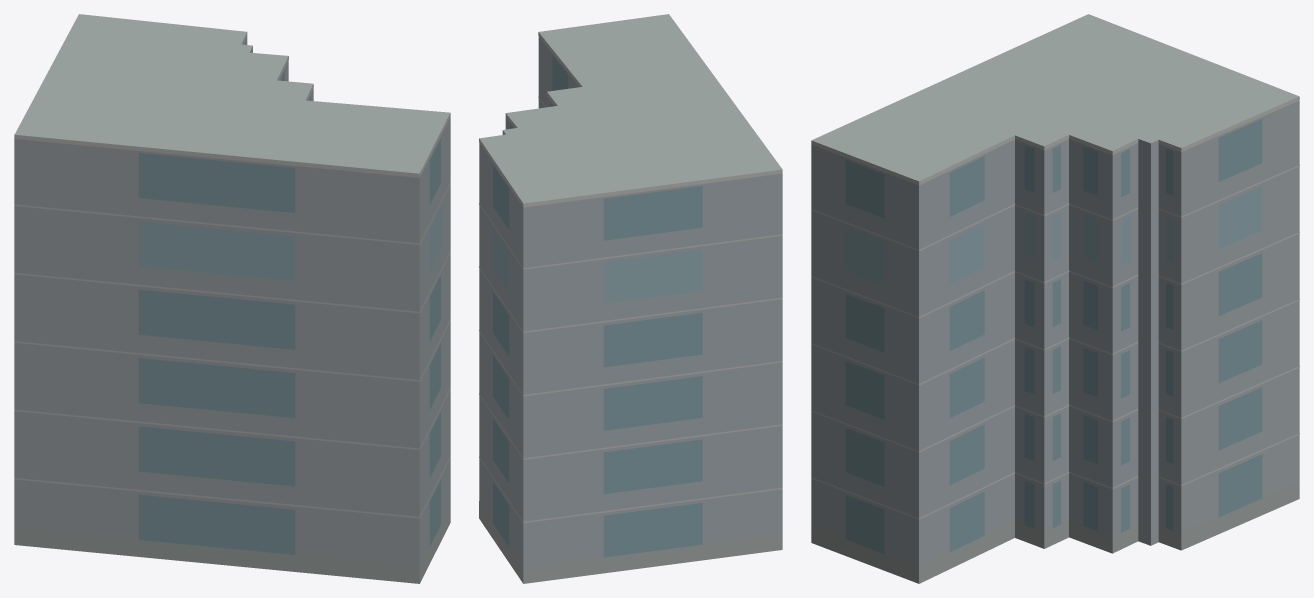
Rendered from survey-upis-32955669.glb.
The picture shows the model from 3 angles, left to right: view 1: azimuth 30°, elevation 25°; view 2: azimuth 150°, elevation 25°; view 3: azimuth 270°, elevation 25°; orthographic projection. The views are drawn at different scales.
Visible parts, largest first — view 1: survey-upis-32955669.tmp; view 2: survey-upis-32955669.tmp; view 3: survey-upis-32955669.tmp.
Part boxes in pixels (x1,y1,x2,y2): survey-upis-32955669.tmp: (14, 14, 450, 583); survey-upis-32955669.tmp: (479, 14, 782, 583); survey-upis-32955669.tmp: (811, 14, 1299, 583).
Bounding box in the file's own units: 21.35 × 23.9 × 26.3.
